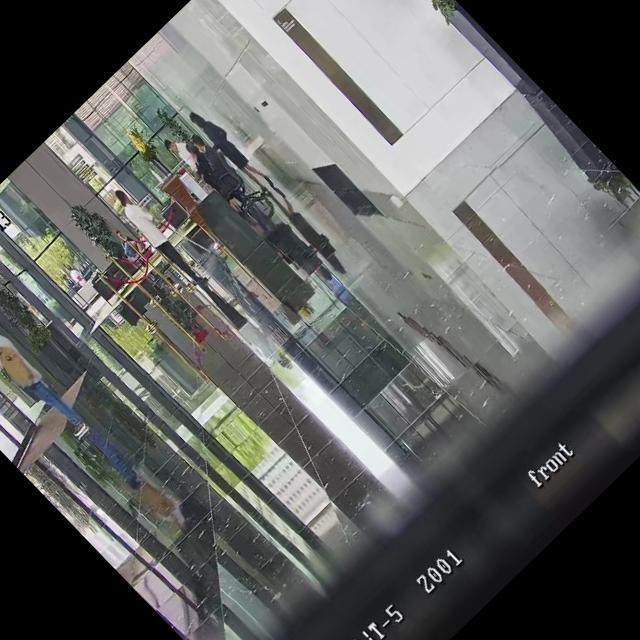person: (0, 314, 95, 445), (107, 180, 211, 287), (186, 105, 277, 199), (180, 132, 244, 198), (162, 128, 208, 176), (180, 138, 218, 176), (108, 226, 144, 263), (62, 260, 90, 288), (59, 271, 80, 292)
